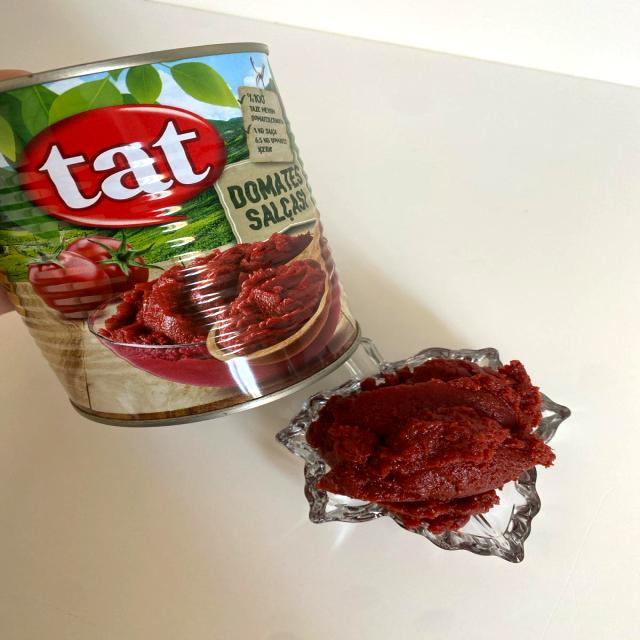tomato paste: (4, 75, 359, 409), (315, 358, 533, 524)
